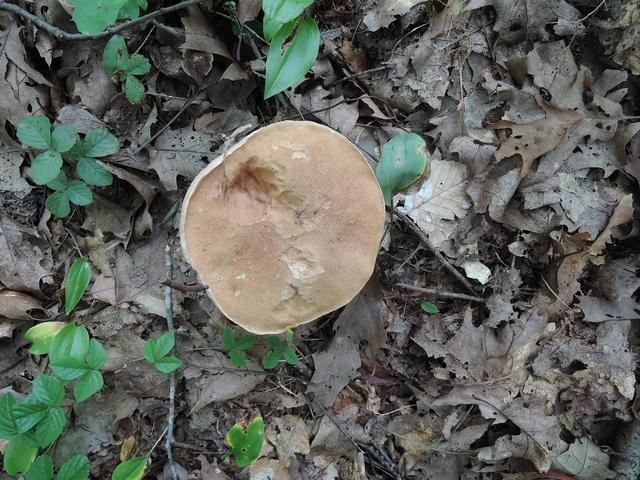Non-edible Mushroom: (177, 118, 387, 336)
